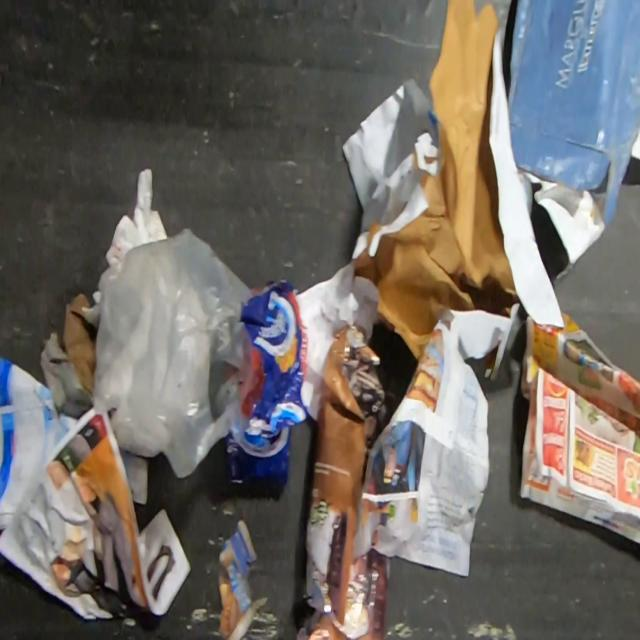cardboard: (350, 0, 567, 383), (507, 0, 640, 285), (224, 274, 311, 487), (62, 292, 94, 394)
soft_plastic: (82, 224, 258, 479), (104, 167, 168, 266)
